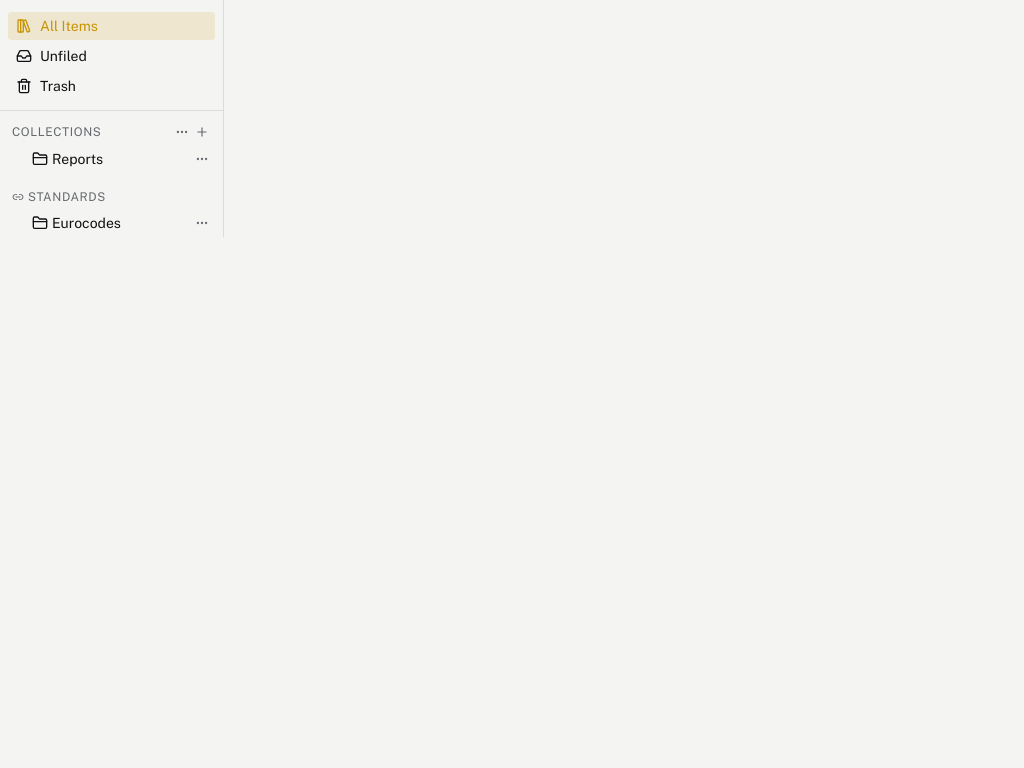
it: profiles › gives an inherited collection a menu without the structural writes
Click the button named "more actions for Eurocodes" at [202, 223], box [193,214,211,232]
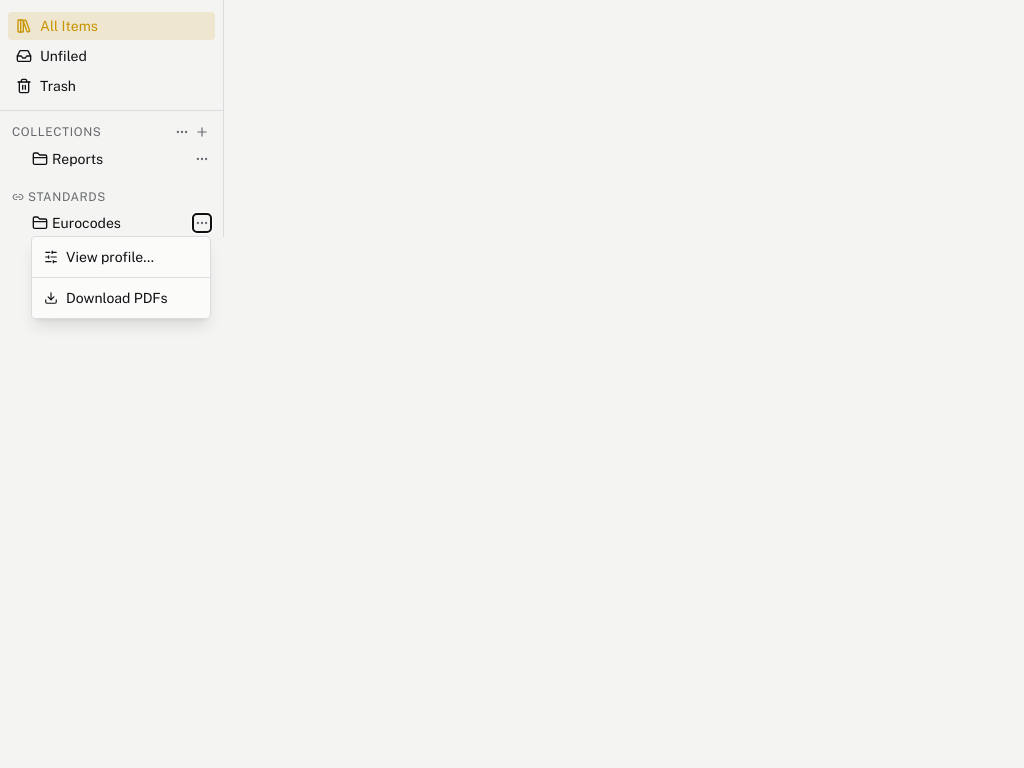
Expected: the menu item "View profile…" is shown
Expected: the menu item "Download PDFs" is shown, [32,282,210,314]
Click the menu item "View profile…" at [121, 257], box [32,241,210,273]
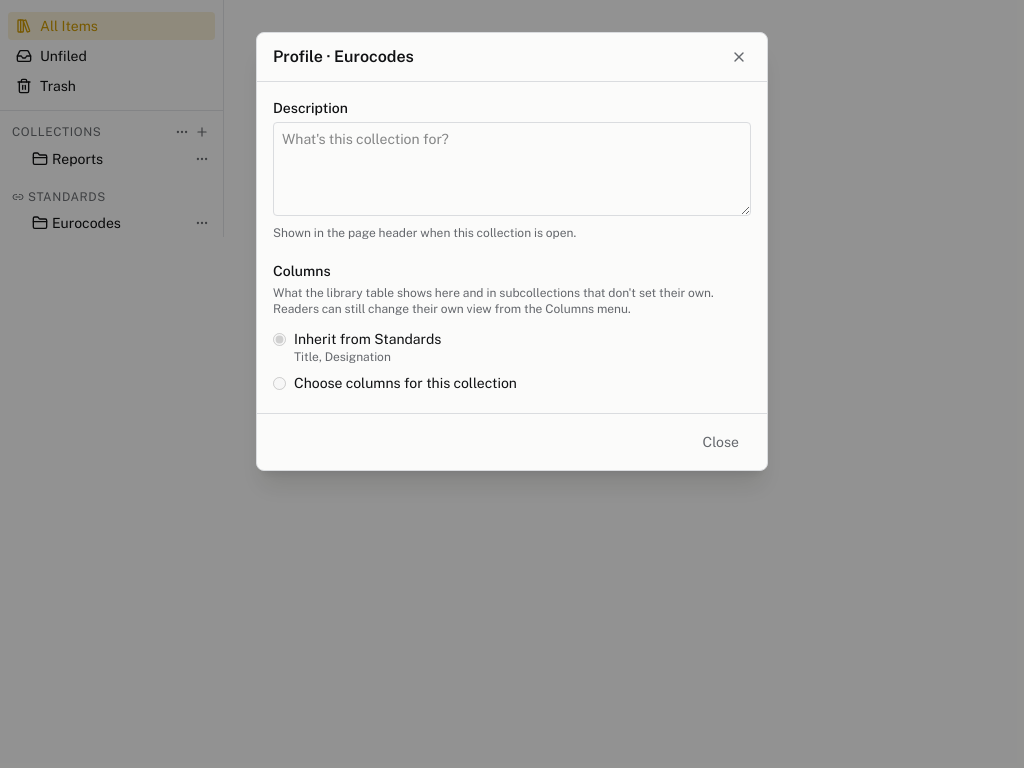
Expected: the dialog shows "inherit from standards", [294,331,441,347]
